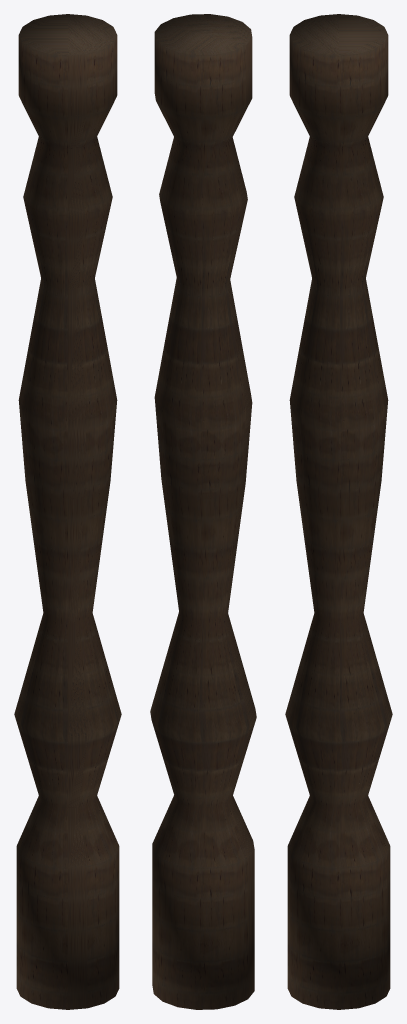
Rendered from upper_spindle.glb.
3 views of the same model, side by side, from view 1: azimuth 90°, elevation 25°; view 2: azimuth 150°, elevation 25°; view 3: azimuth 270°, elevation 25° (orthographic).
Visible parts, largest first — view 1: VictorianBaluster; view 2: VictorianBaluster; view 3: VictorianBaluster.
Boxes of the visible parts, x1,y1,x2,y2 form: VictorianBaluster: (14, 14, 121, 1009); VictorianBaluster: (150, 14, 256, 1009); VictorianBaluster: (285, 14, 392, 1009).
Size of the model in its own units: 0.096 by 0.94 by 0.096.
Materials: 1 (1 with a texture image).
